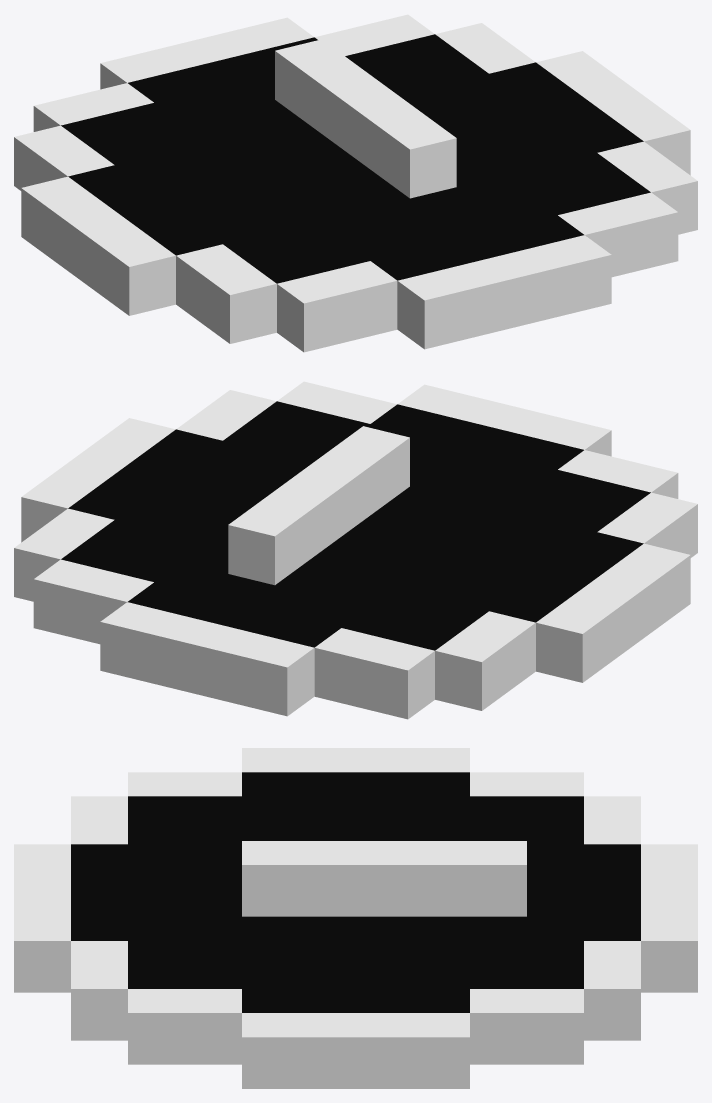
The model's file is CokeTallerkenFuld.obj.
The picture shows the model from 3 angles, top to bottom: view 1: azimuth 30°, elevation 25°; view 2: azimuth 150°, elevation 25°; view 3: azimuth 270°, elevation 25°; orthographic projection. The views are drawn at different scales.
Bounding box in the file's own units: 1.2 × 0.2 × 1.2.
